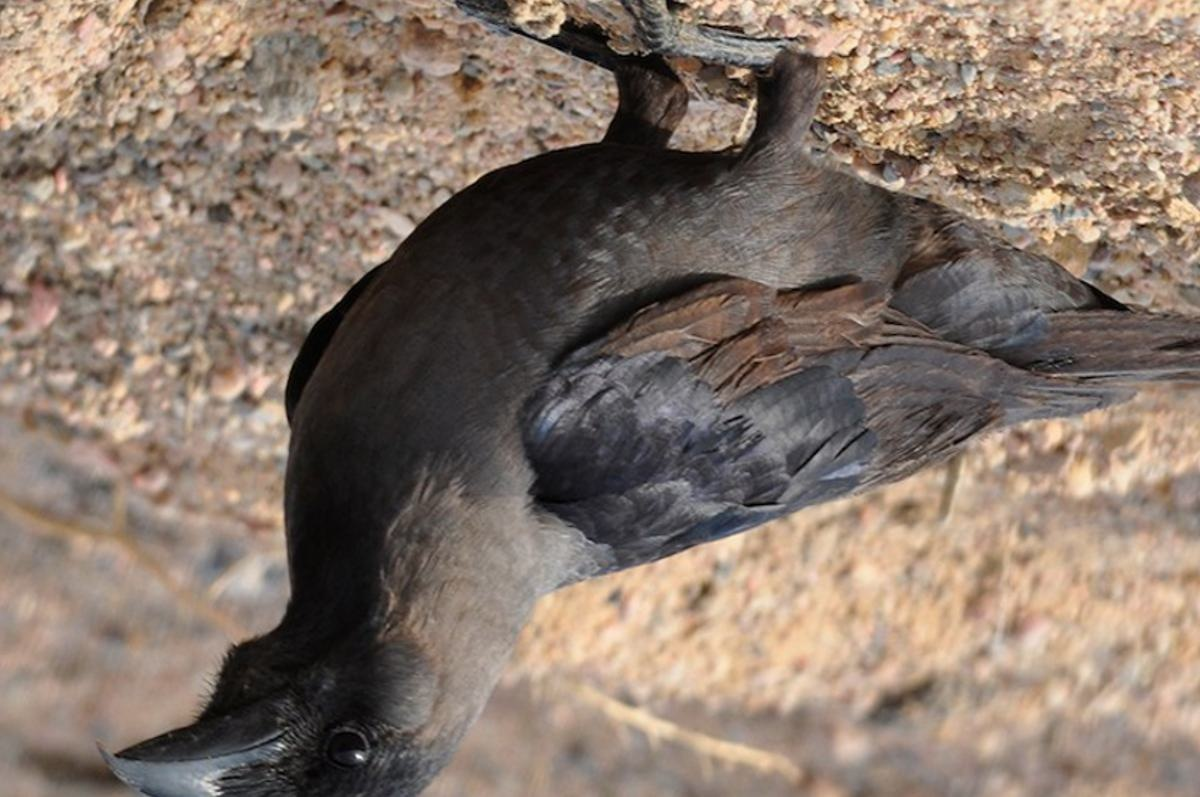crow: (97, 36, 1200, 795)
